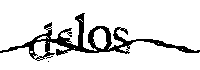d: (29, 22, 53, 61)
l: (74, 12, 86, 54)
o: (88, 26, 112, 52)
s: (56, 27, 74, 56), (113, 26, 131, 54)
